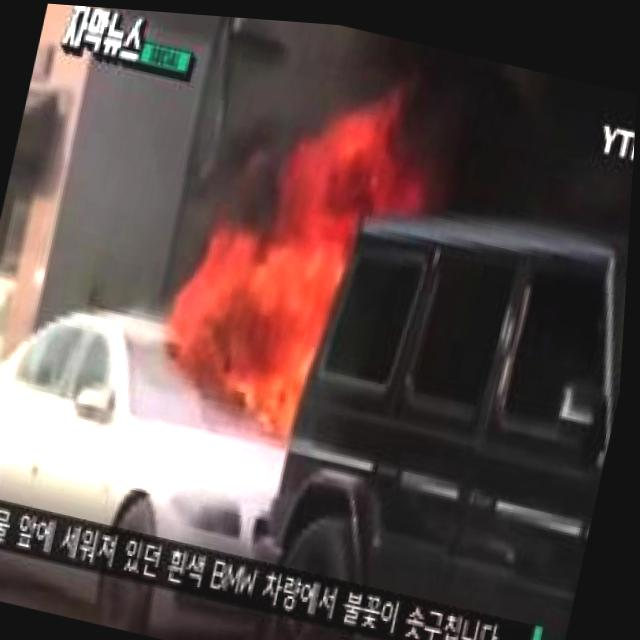helmet: (166, 31, 472, 452)
